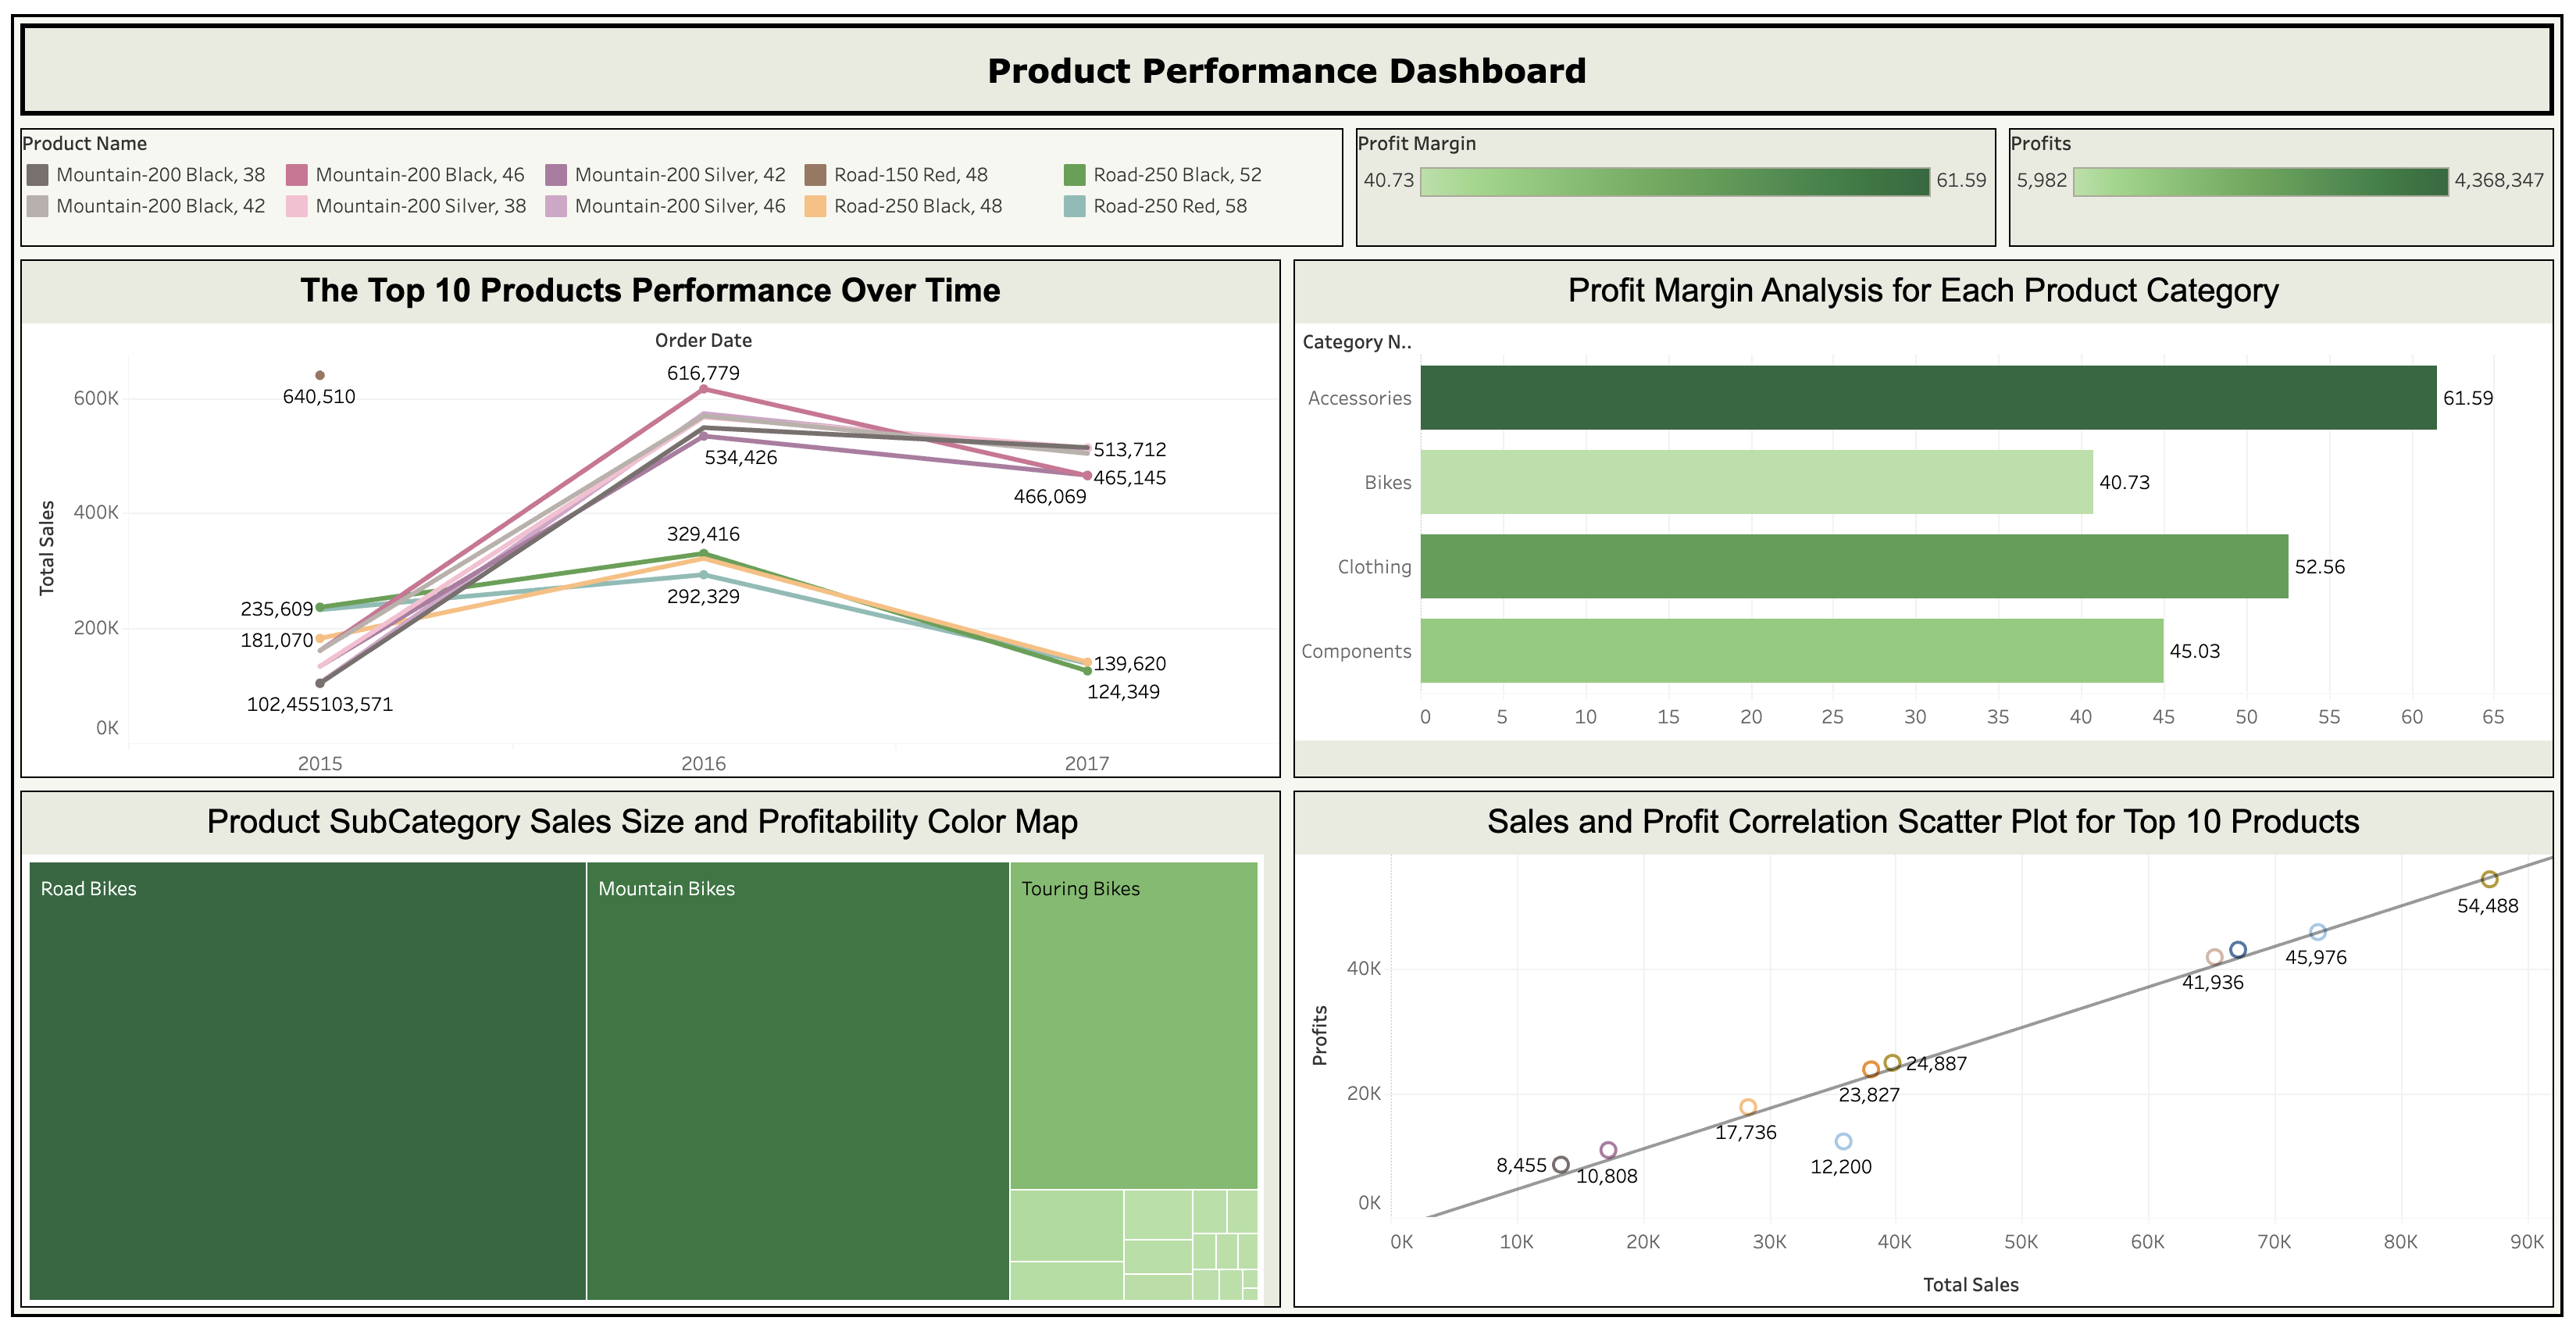

What the dashboard file says about the page in this screenshot:
{"tool":"tableau","page":{"name":"Product Performance Dashboard","canvas":[1650,850],"ordinal":2},"visuals":[{"type":"text","box":[10,10,1630,66.7]},{"type":"legend","title":"The Top 10 Products Performance Over Time","param":"[federated.08hyrv91nuucvp1eubrd003z43lr].[none:ProductName:nk]","box":[10,76.7,854.9,84.6]},{"type":"legend","title":"Profit Margin Analysis for Each Product Category","param":"[federated.08hyrv91nuucvp1eubrd003z43lr].[usr:Calculation_1433833561071226884:qk","box":[864.9,76.7,418,84.6]},{"type":"legend","title":"Product SubCategory Sales Size and Profitability Color Map","param":"[federated.08hyrv91nuucvp1eubrd003z43lr].[usr:Calculation_1433833561043701763:qk","box":[1282.9,76.7,357.1,84.6]},{"type":"worksheet","title":"The Top 10 Products Performance Over Time","mark":"Automatic","rows":["Calculation_1433833561043546114"],"cols":["OrderDate"],"box":[10,161.3,815,339.4]},{"type":"worksheet","title":"Profit Margin Analysis for Each Product Category","mark":"Automatic","rows":["CategoryName"],"cols":["Calculation_1433833561071226884"],"box":[825,161.3,815,339.4]},{"type":"worksheet","title":"Product SubCategory Sales Size and Profitability Color Map","mark":"Automatic","box":[10,500.6,815,339.4]},{"type":"worksheet","title":"Sales and Profit Correlation Scatter Plot for Top 10 Products","mark":"Automatic","rows":["Calculation_1433833561043701763"],"cols":["Calculation_1433833561043546114"],"box":[825,500.6,815,339.4]}]}

Visuals, with their boxes in screenshot pixels (x1, y1, x2, y2), scaled from the page's 1650x850 canvas onto the 2576x1328 screenshot:
text: region(16, 16, 2560, 120)
"The Top 10 Products Performance Over Time" legend: region(16, 120, 1350, 252)
"Profit Margin Analysis for Each Product Category" legend: region(1350, 120, 2003, 252)
"Product SubCategory Sales Size and Profitability Color Map" legend: region(2003, 120, 2560, 252)
"The Top 10 Products Performance Over Time" worksheet: region(16, 252, 1288, 782)
"Profit Margin Analysis for Each Product Category" worksheet: region(1288, 252, 2560, 782)
"Product SubCategory Sales Size and Profitability Color Map" worksheet: region(16, 782, 1288, 1312)
"Sales and Profit Correlation Scatter Plot for Top 10 Products" worksheet: region(1288, 782, 2560, 1312)
